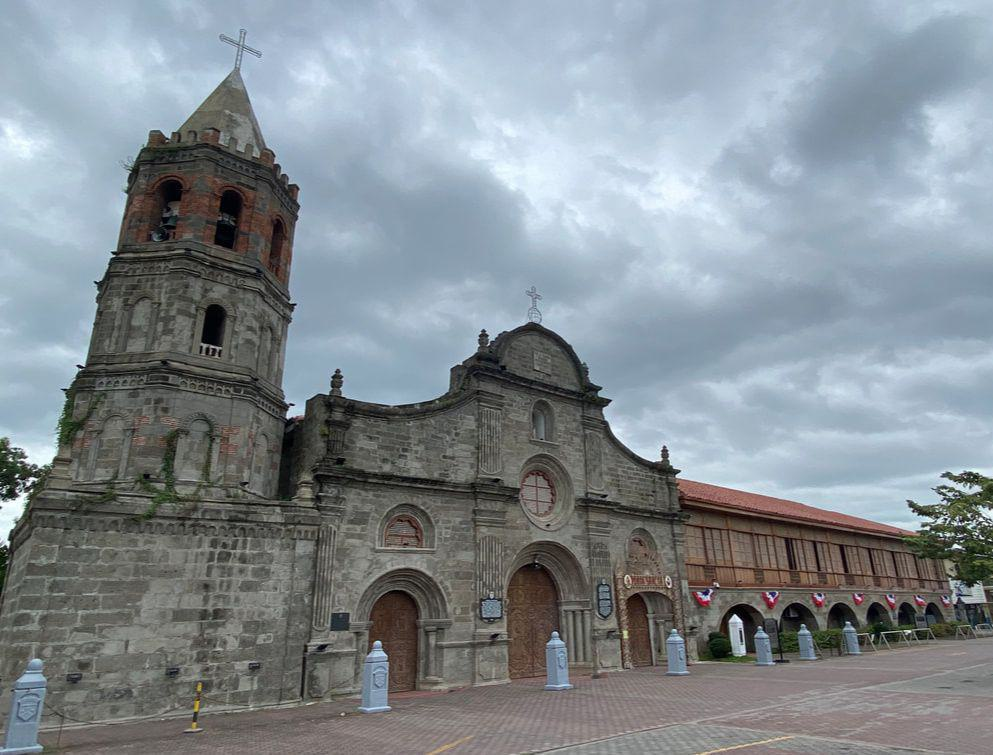barasoain_church_malolos_bulacan: (5, 25, 686, 674)
